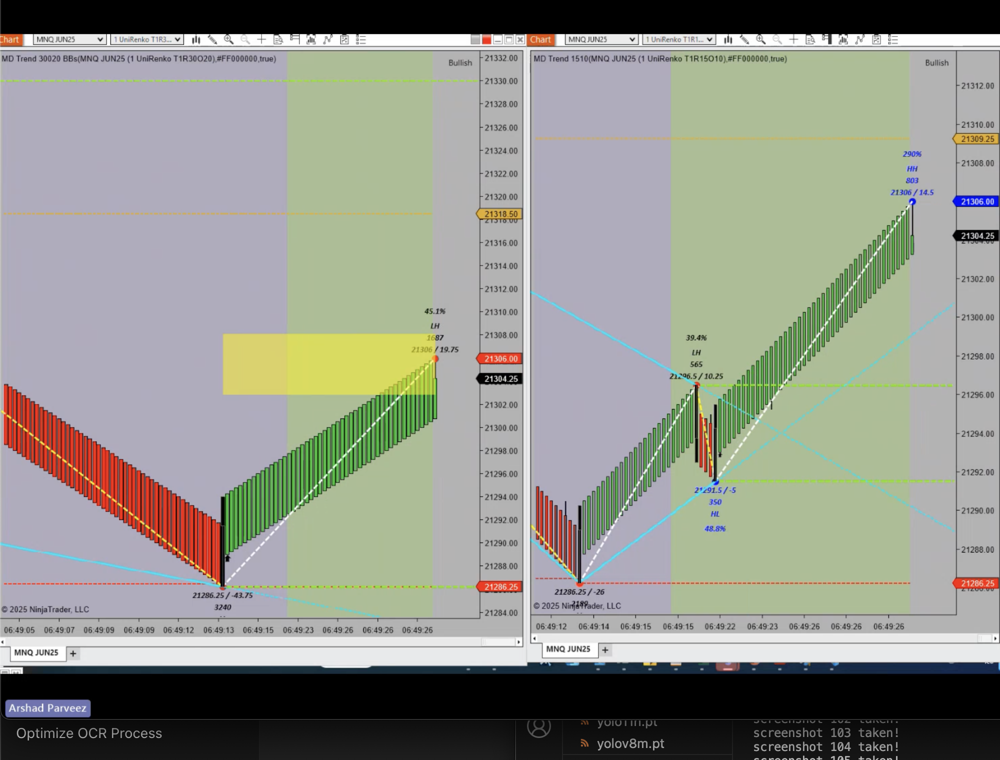HH: (902, 162, 923, 176)
HL: (703, 506, 730, 524)
LH: (426, 318, 450, 332), (686, 346, 709, 358)
